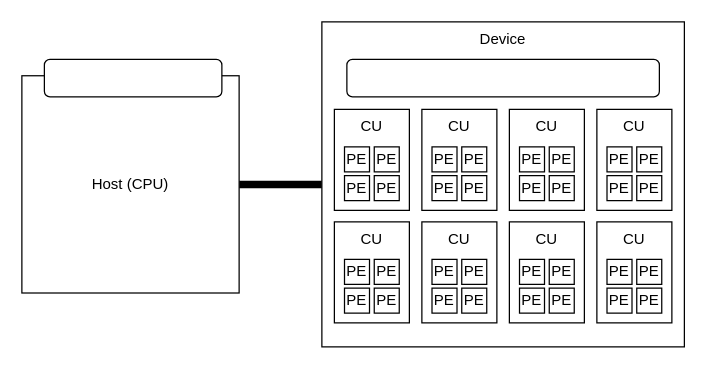
This 706x369 diagram has some shape labels left out. Each missing label, with the centre of its shape:
"Device memory" belongs at (x=502, y=77).
"Host memory" belongs at (x=132, y=77).
